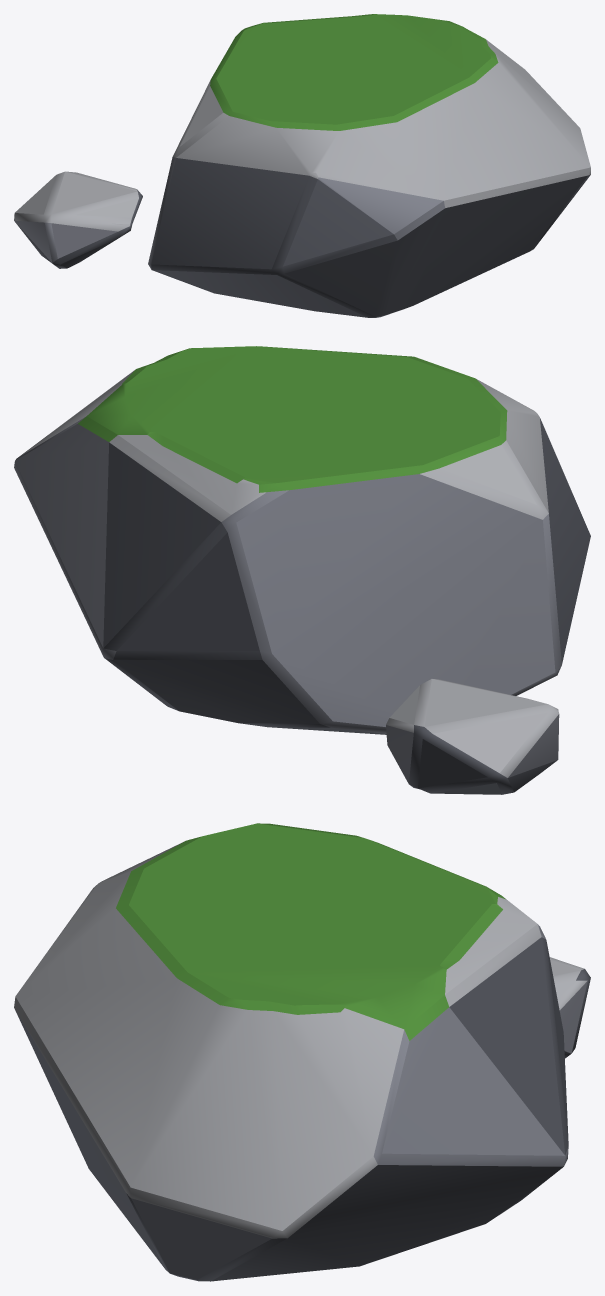
Rendered from Boulder_07.glb.
The picture shows the model from 3 angles, top to bottom: view 1: azimuth 30°, elevation 25°; view 2: azimuth 150°, elevation 25°; view 3: azimuth 270°, elevation 25°; orthographic projection. The views are drawn at different scales.
Visible parts, largest first — view 1: Boulder_07; view 2: Boulder_07; view 3: Boulder_07.
Boxes of the visible parts, box(x1,y1,x2,y2) form: Boulder_07: box(14, 14, 590, 317); Boulder_07: box(14, 346, 590, 794); Boulder_07: box(14, 823, 590, 1281).
Bounding box in the file's own units: 7.05 × 2.65 × 5.18.
